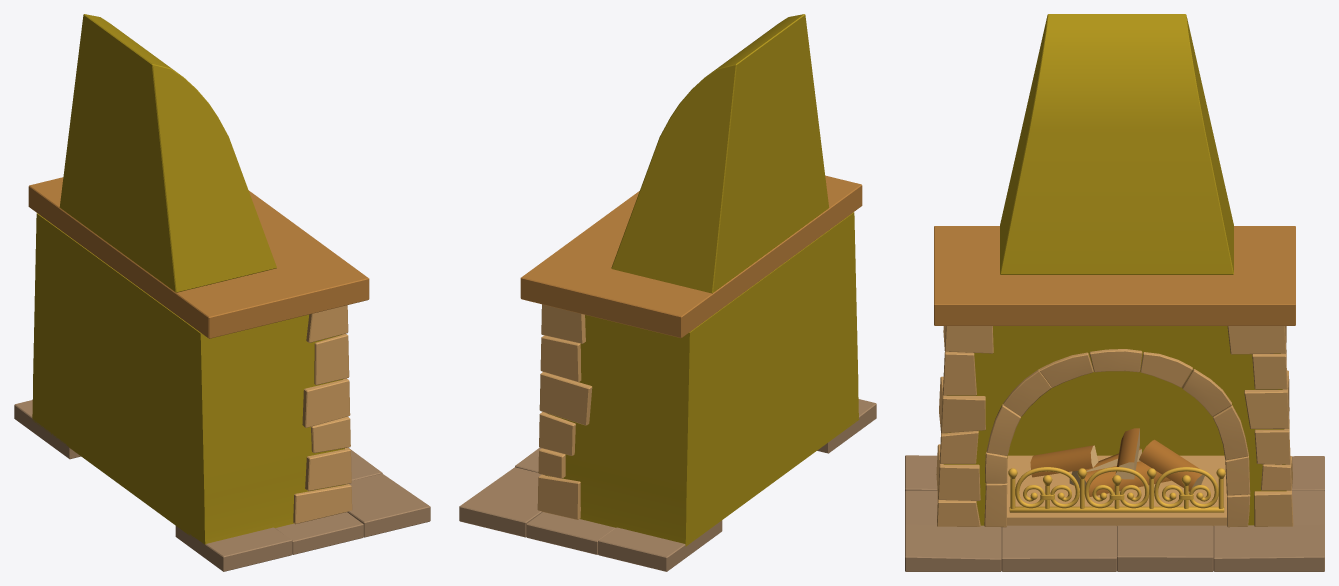
File: FirePlace.glb
3 renders of one model, left to right at view 1: azimuth 30°, elevation 25°; view 2: azimuth 150°, elevation 25°; view 3: azimuth 270°, elevation 25°, orthographic.
Visible parts, largest first — view 1: Fireplase1; view 2: Fireplase1; view 3: Fireplase1.
Part boxes in pixels (x1=…): Fireplase1: x1=14, y1=14, x2=430, y2=571; Fireplase1: x1=459, y1=14, x2=876, y2=571; Fireplase1: x1=905, y1=14, x2=1324, y2=571.
Bounding box in the file's own units: 1.03 × 2.15 × 1.79.
3 materials, 2 textured.
